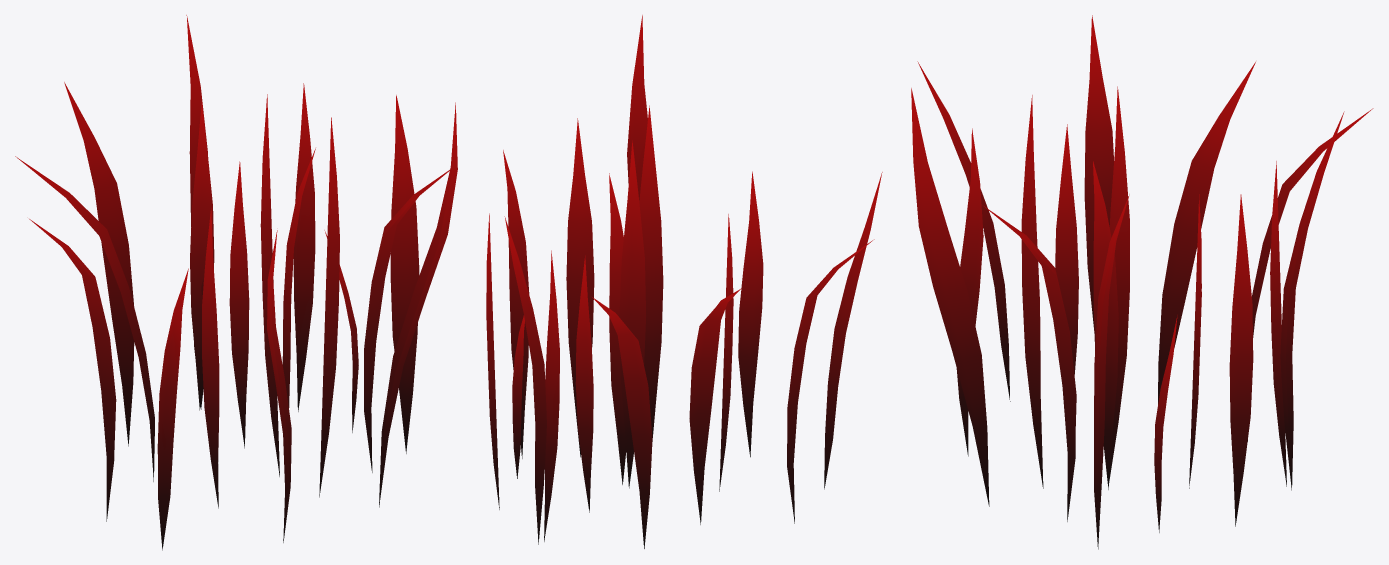
Rendered from кущ_менше.fbx.
The picture shows the model from 3 angles, left to right: view 1: azimuth 30°, elevation 25°; view 2: azimuth 150°, elevation 25°; view 3: azimuth 270°, elevation 25°; orthographic projection. The views are drawn at different scales.
Visible parts, largest first — view 1: Grass; view 2: Grass; view 3: Grass.
Boxes of the visible parts, x1=… form: Grass: x1=15, y1=15, x2=457, y2=550; Grass: x1=486, y1=15, x2=882, y2=548; Grass: x1=911, y1=15, x2=1373, y2=549.
Size of the model in its own units: 143 by 148 by 140.
